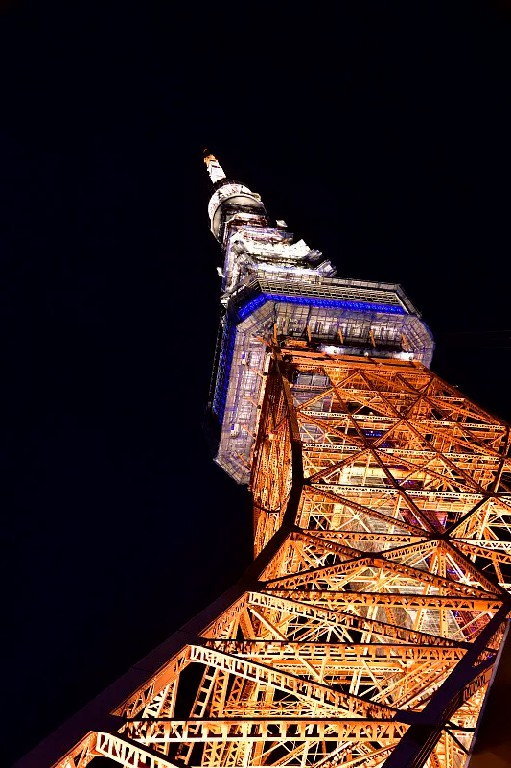Tokyo: (42, 143, 511, 766)
